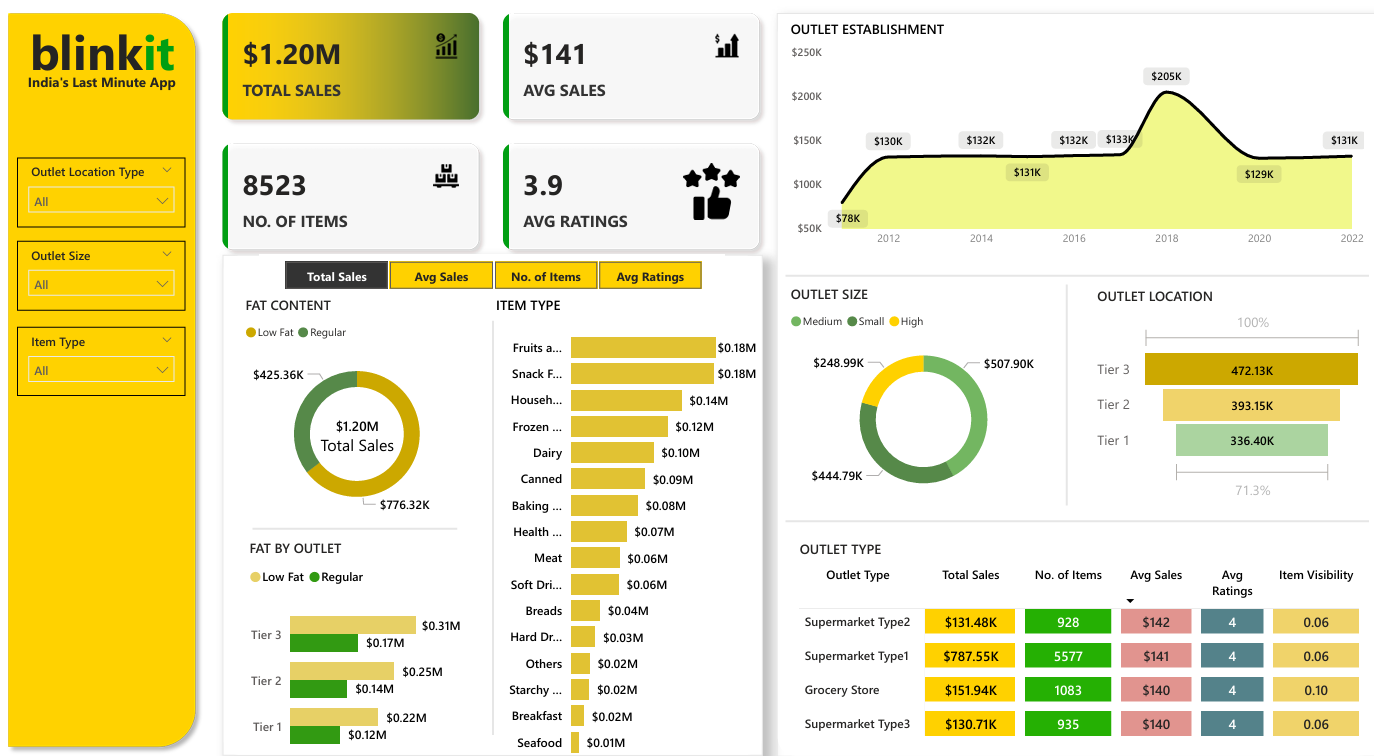

This screenshot's page, from the dashboard's own definition file:
{"tool":"powerbi","page":{"name":"Page 1","canvas":[1400,800],"ordinal":0},"visuals":[{"type":"shape","box":[10,8.3,205,750],"z":0},{"type":"textbox","box":[262.7,667.9,204.1,82.5],"z":1000},{"type":"textbox","box":[10,71.7,205,30],"z":2000},{"type":"cardVisual","fields":{"Data":["BlinkIT Grocery Data.Total Sales","BlinkIT Grocery Data.Avg Sales","BlinkIT Grocery Data.No. of Items","BlinkIT Grocery Data.Avg Ratings"]},"box":[216.1,0,570.3,270.2],"z":3000},{"type":"textbox","box":[22.7,17.3,180,78.2],"z":4000},{"type":"shape","box":[233.3,258.3,538.3,500],"z":5000},{"type":"donutChart","title":"FAT CONTENT","fields":{"Y":["BlinkIT Grocery Data.Total Sales"],"Category":["BlinkIT Grocery Data.Item Fat Content"]},"box":[250.6,298.7,232.6,232.6],"z":6000},{"type":"slicer","fields":{"Values":["Metrics.Metrics"]},"box":[270.2,258.1,465.3,40.5],"z":7000},{"type":"cardVisual","fields":{"Data":["BlinkIT Grocery Data.Total Sales"]},"box":[300.2,400.7,135.1,76.5],"z":8000},{"type":"clusteredBarChart","title":"FAT BY OUTLET","fields":{"Y":["BlinkIT Grocery Data.Total Sales"],"Category":["BlinkIT Grocery Data.Outlet Location Type"],"Series":["BlinkIT Grocery Data.Item Fat Content"]},"box":[254.7,541.6,221.2,229.2],"z":9000},{"type":"shape","box":[262.7,520.8,204.1,21],"z":10000},{"type":"shape","box":[487.8,324.2,30,412.7],"z":11000},{"type":"barChart","title":"ITEM TYPE","fields":{"Y":["BlinkIT Grocery Data.Total Sales"],"Category":["BlinkIT Grocery Data.Item Type"]},"box":[501.3,298.9,269.4,471.9],"z":12000},{"type":"shape","box":[785.5,17.4,600.5,741.3],"z":13000},{"type":"lineChart","title":"OUTLET ESTABLISHMENT","fields":{"Category":["BlinkIT Grocery Data.Outlet Establishment Year"],"Y":["BlinkIT Grocery Data.Total Sales"]},"box":[794.9,24.1,581.8,234.6],"z":14000},{"type":"shape","box":[794.9,268.1,581.8,21.4],"z":15000},{"type":"donutChart","title":"OUTLET SIZE","fields":{"Y":["BlinkIT Grocery Data.Total Sales"],"Category":["BlinkIT Grocery Data.Outlet Size"]},"box":[794.9,288.2,275,225],"z":15001},{"type":"shape","box":[1060.3,288.2,30.8,219.8],"z":15002},{"type":"funnel","title":"OUTLET LOCATION","fields":{"Y":["Sum(BlinkIT Grocery Data.Sales)"],"Category":["BlinkIT Grocery Data.Outlet Location Type"]},"box":[1100.5,289.5,276.1,218.5],"z":15003},{"type":"shape","box":[794.9,513.4,581.8,21.4],"z":15004},{"type":"pivotTable","title":"OUTLET TYPE","fields":{"Rows":["BlinkIT Grocery Data.Outlet Type"],"Values":["BlinkIT Grocery Data.Total Sales","BlinkIT Grocery Data.No. of Items","BlinkIT Grocery Data.Avg Sales","BlinkIT Grocery Data.Avg Ratings","Avg(BlinkIT Grocery Data.Item Visibility)"]},"box":[804.3,542.9,572.4,209.1],"z":15005},{"type":"slicer","fields":{"Values":["BlinkIT Grocery Data.Outlet Location Type"]},"box":[28.2,160.9,167.6,69.7],"z":15006},{"type":"slicer","fields":{"Values":["BlinkIT Grocery Data.Outlet Size"]},"box":[28.2,244,167.6,69.7],"z":15007},{"type":"slicer","fields":{"Values":["BlinkIT Grocery Data.Item Type"]},"box":[28.2,329.8,167.6,69.7],"z":15008}]}

Visuals, with their boxes on the page's 1400x800 design canvas (x1, y1, x2, y2). These are canvas units, not pixel positions in the 1374x756 screenshot, which may show the page scaled, cropped or inside an application window:
shape: 10:8:215:758
textbox: 263:668:467:750
textbox: 10:72:215:102
cardVisual - BlinkIT Grocery Data.Total Sales x BlinkIT Grocery Data.Avg Sales: 216:0:786:270
textbox: 23:17:203:96
shape: 233:258:772:758
"FAT CONTENT" donutChart: 251:299:483:531
slicer - Metrics.Metrics: 270:258:736:299
cardVisual - BlinkIT Grocery Data.Total Sales: 300:401:435:477
"FAT BY OUTLET" clusteredBarChart: 255:542:476:771
shape: 263:521:467:542
shape: 488:324:518:737
"ITEM TYPE" barChart: 501:299:771:771
shape: 786:17:1386:759
"OUTLET ESTABLISHMENT" lineChart: 795:24:1377:259
shape: 795:268:1377:290
"OUTLET SIZE" donutChart: 795:288:1070:513
shape: 1060:288:1091:508
"OUTLET LOCATION" funnel: 1100:290:1377:508
shape: 795:513:1377:535
"OUTLET TYPE" pivotTable: 804:543:1377:752
slicer - BlinkIT Grocery Data.Outlet Location Type: 28:161:196:231
slicer - BlinkIT Grocery Data.Outlet Size: 28:244:196:314
slicer - BlinkIT Grocery Data.Item Type: 28:330:196:400
